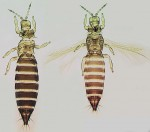Thripidae: (49, 2, 150, 112), (3, 2, 50, 130)
